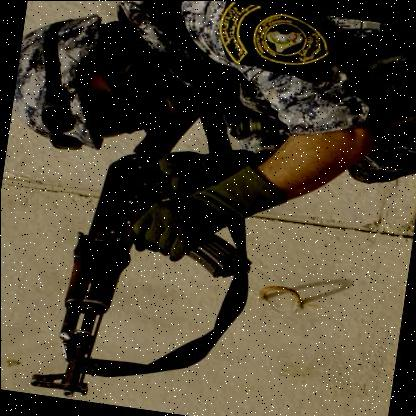rifle: (27, 97, 264, 416)
